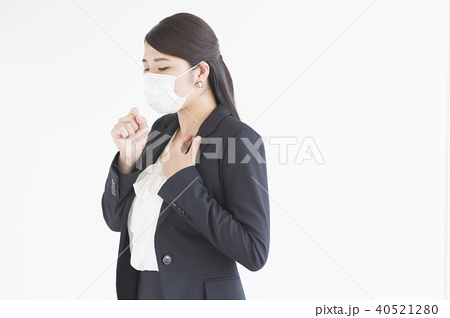mask: (132, 70, 188, 116)
